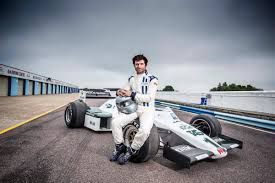f1_car: (63, 83, 249, 172)
